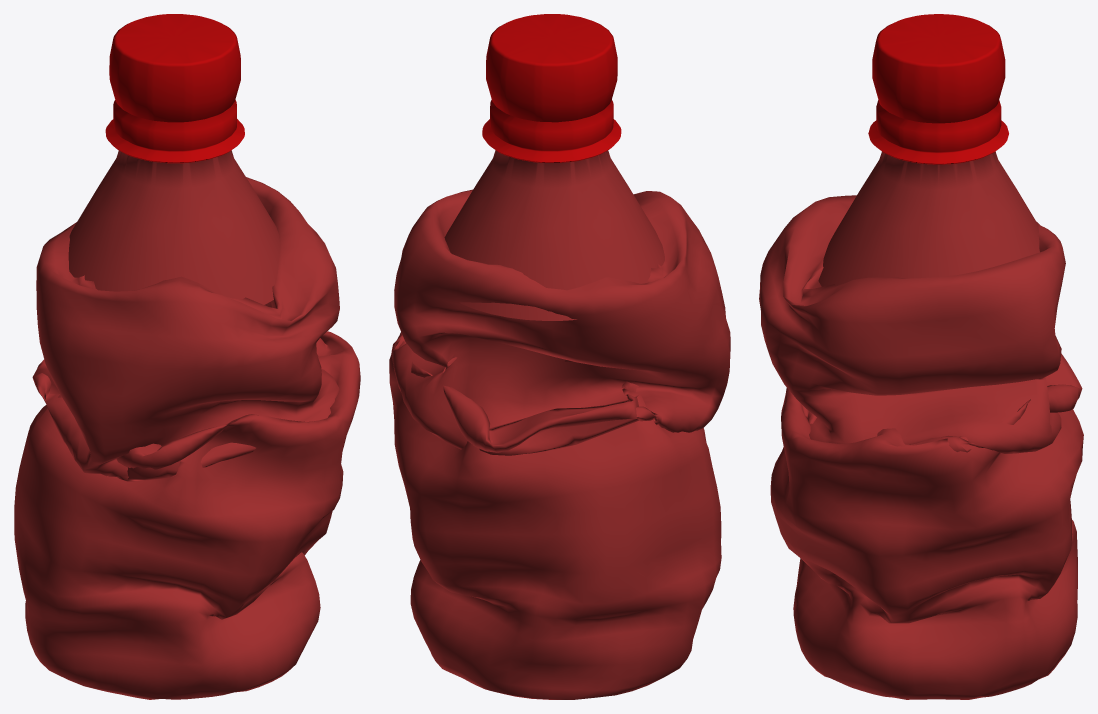
File: WateBottle.fbx
The picture shows the model from 3 angles, left to right: view 1: azimuth 30°, elevation 25°; view 2: azimuth 150°, elevation 25°; view 3: azimuth 270°, elevation 25°; orthographic projection.
Parts seen in each view (by area): view 1: Crushed_Bottle2; view 2: Crushed_Bottle2; view 3: Crushed_Bottle2.
Part boxes in pixels (x1,y1,x2,y2): Crushed_Bottle2: (14,14,360,699); Crushed_Bottle2: (389,14,730,699); Crushed_Bottle2: (759,14,1083,699).
Size of the model in its own units: 118 by 223 by 107.
